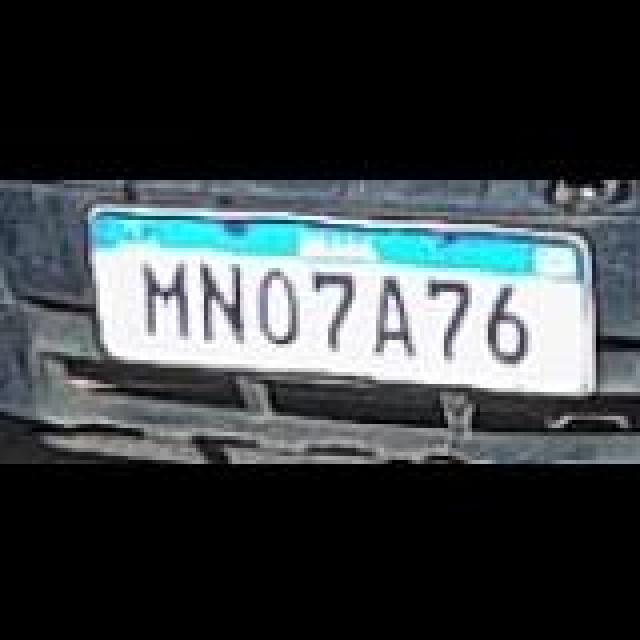6: (486, 280, 530, 360)
7: (428, 276, 476, 356), (312, 268, 360, 348)
A: (374, 270, 418, 354)
M: (142, 258, 194, 342)
N: (198, 258, 250, 342)
O: (256, 264, 304, 344)
